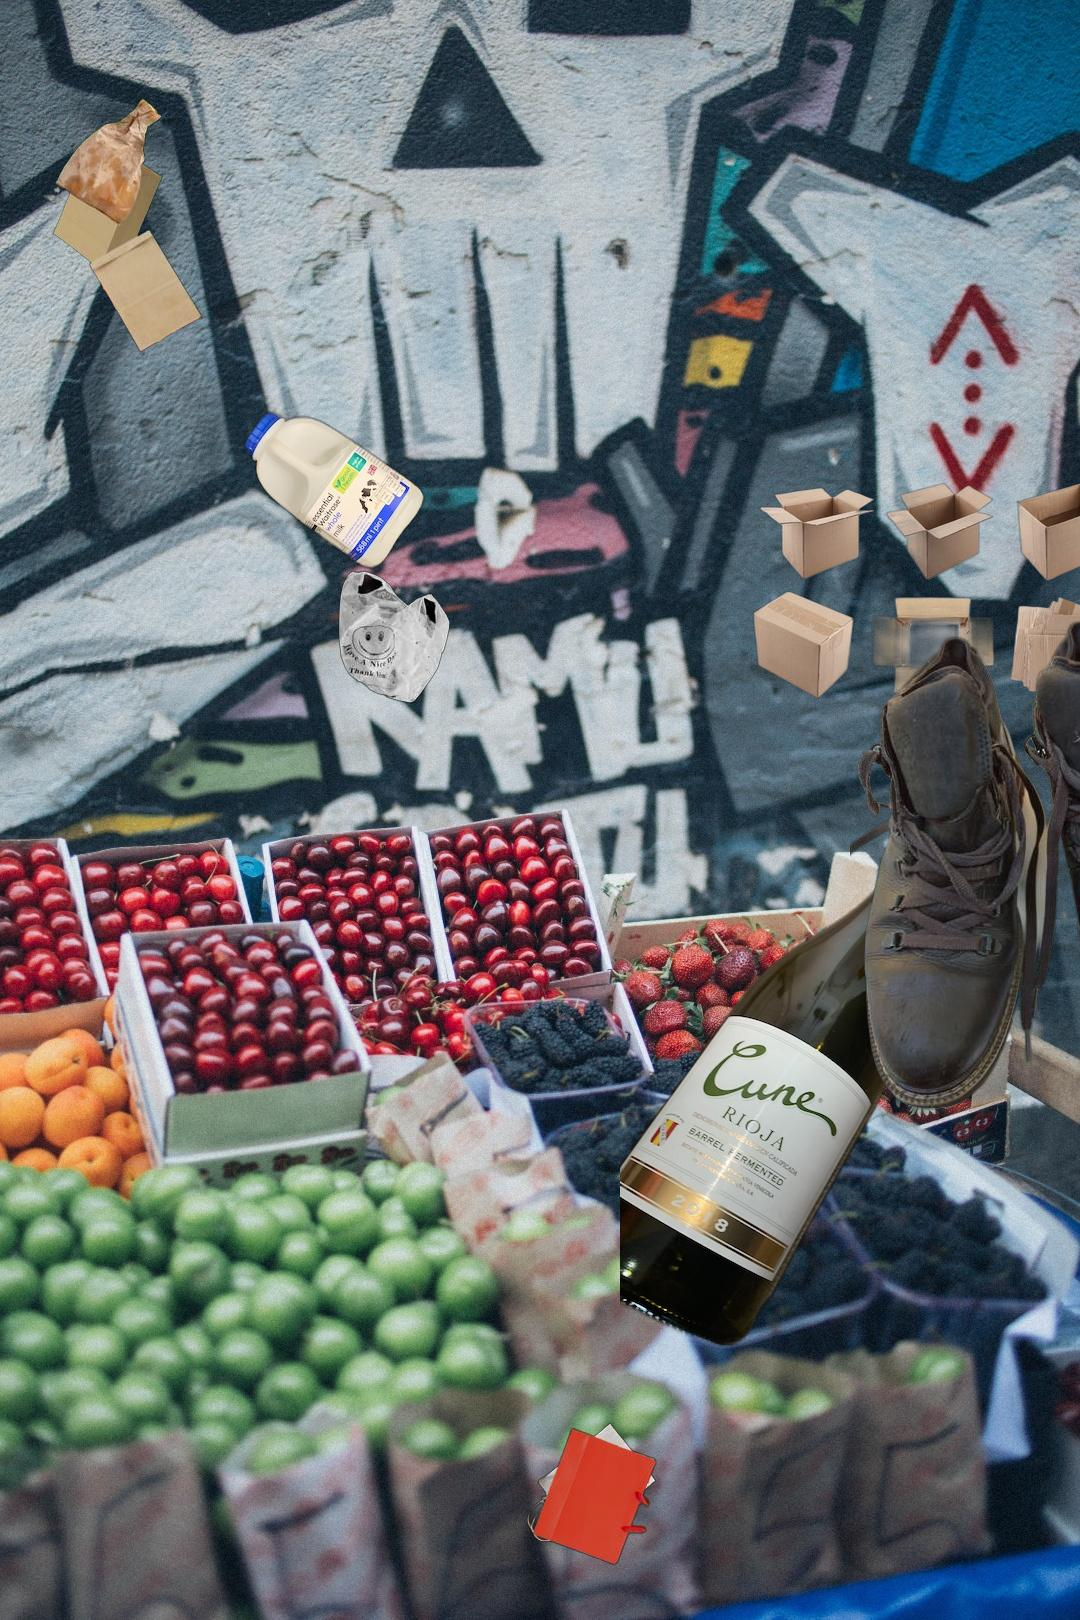biological: (975, 357, 1080, 526)
glass: (620, 797, 978, 1351)
paper-bag: (49, 96, 205, 353), (526, 1422, 657, 1568)
plastic-bag: (336, 568, 451, 704)
plastic-bottles: (240, 405, 429, 574)
shoes: (850, 617, 1080, 1141)
trashbox-cardboard: (750, 481, 1080, 704)
